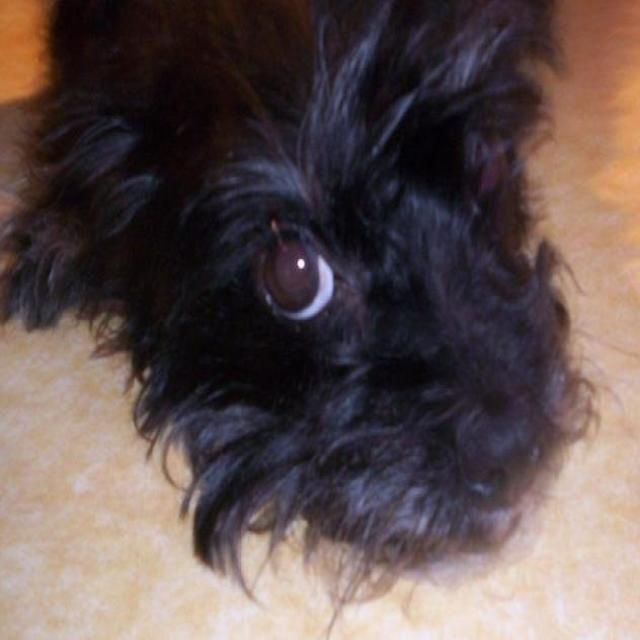dog: (107, 61, 596, 576)
